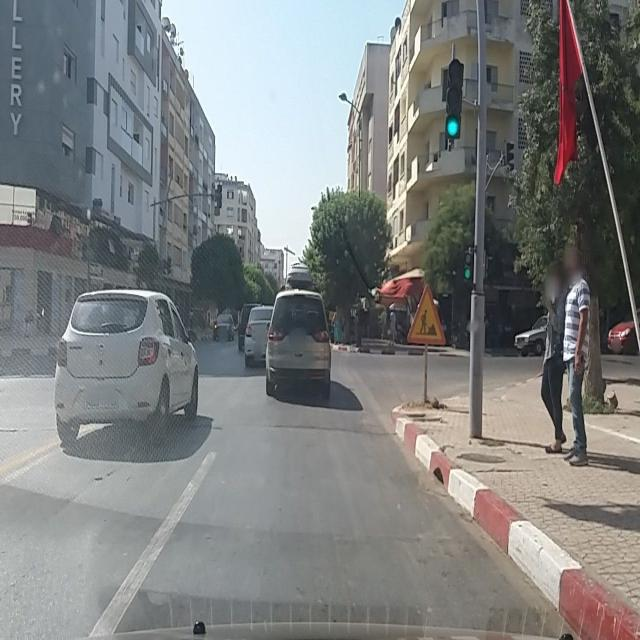car: (54, 285, 199, 449), (265, 269, 332, 399), (244, 305, 274, 369), (513, 313, 551, 357), (606, 319, 640, 354), (237, 302, 259, 352), (212, 313, 235, 342)
